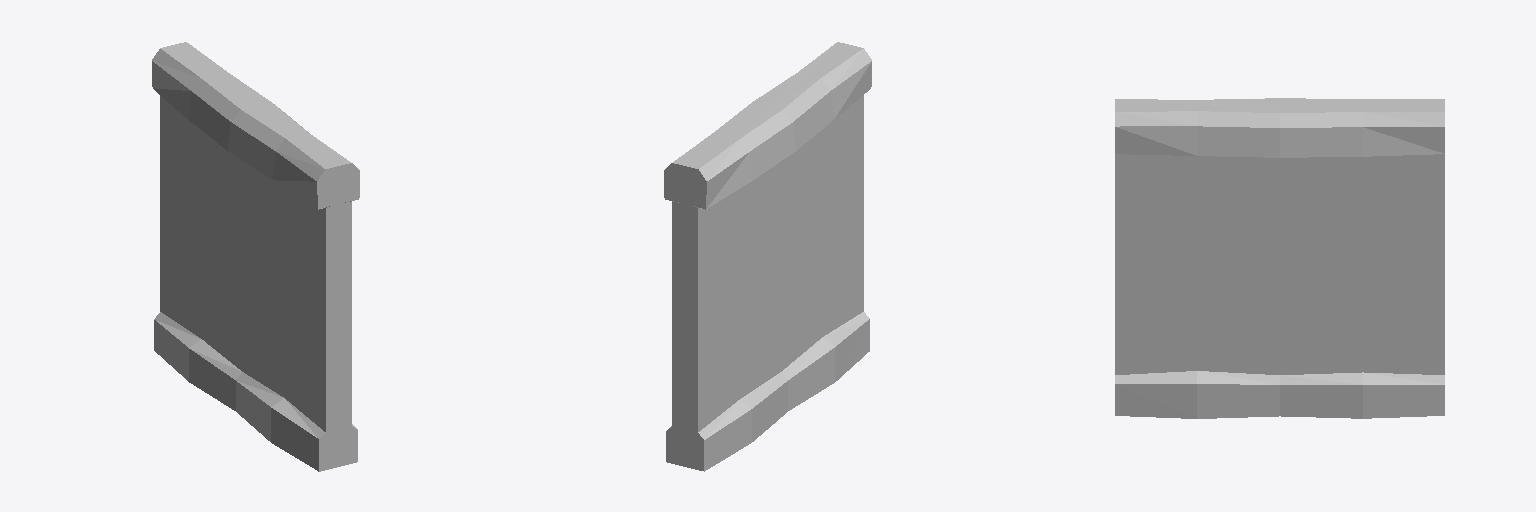
File: WallFWD.obj
3 views of the same model, side by side, from view 1: azimuth 30°, elevation 25°; view 2: azimuth 150°, elevation 25°; view 3: azimuth 270°, elevation 25° (orthographic).
Parts seen in each view (by area): view 1: TEMP; view 2: TEMP; view 3: TEMP.
Boxes of the visible parts, x1=… form: TEMP: x1=152, y1=42, x2=359, y2=471; TEMP: x1=664, y1=42, x2=871, y2=471; TEMP: x1=1115, y1=98, x2=1444, y2=418.
Size of the model in its own units: 25.35 by 128 by 128.